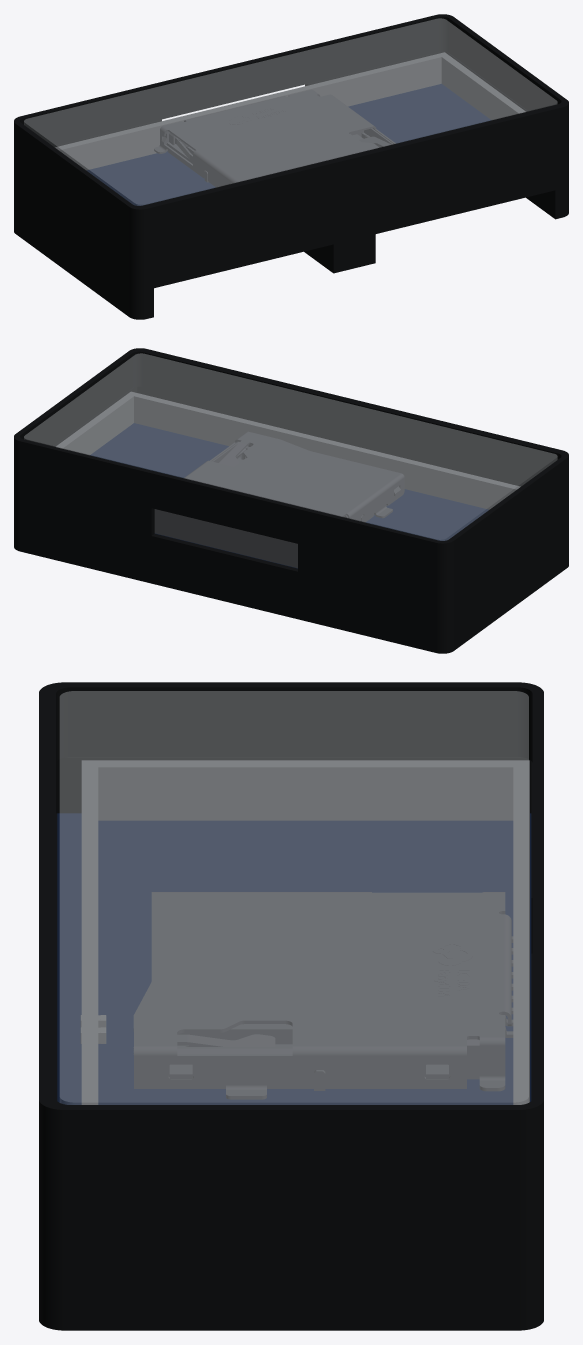
File: micro-sd.glb
3 renders of one model, top to bottom at view 1: azimuth 30°, elevation 25°; view 2: azimuth 150°, elevation 25°; view 3: azimuth 270°, elevation 25°, orthographic. The views are drawn at different scales.
Parts seen in each view (by area): view 1: black, glass, satin, grey, pcb; view 2: black, glass, grey, satin, pcb; view 3: glass, black, satin, pcb, grey.
Boxes of the visible parts, bbox=[...] form: black: bbox=[14, 14, 568, 319]; glass: bbox=[24, 18, 557, 205]; satin: bbox=[154, 89, 395, 187]; grey: bbox=[55, 52, 525, 170]; pcb: bbox=[86, 83, 491, 205]; black: bbox=[14, 348, 568, 653]; glass: bbox=[24, 353, 557, 540]; grey: bbox=[55, 391, 520, 568]; satin: bbox=[184, 431, 404, 522]; pcb: bbox=[90, 423, 488, 568]; glass: bbox=[60, 691, 528, 1104]; black: bbox=[39, 682, 543, 1330]; satin: bbox=[133, 892, 513, 1099]; pcb: bbox=[57, 813, 531, 1104]; grey: bbox=[80, 760, 529, 1104].
Size of the model in its own units: 0.0395 by 0.00952 by 0.0197.
